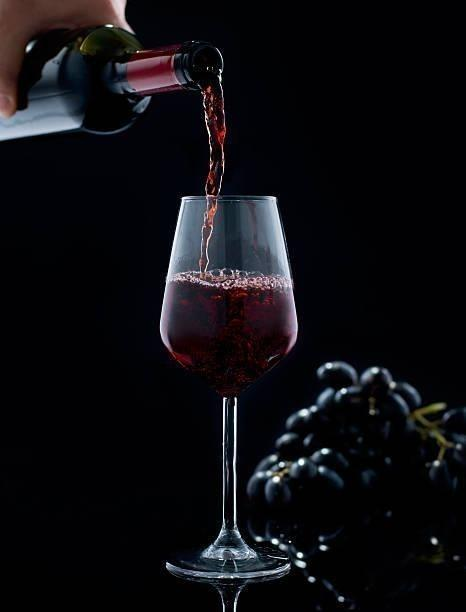bottle-glass: (0, 21, 225, 166)
glass-wine: (157, 192, 299, 583)
